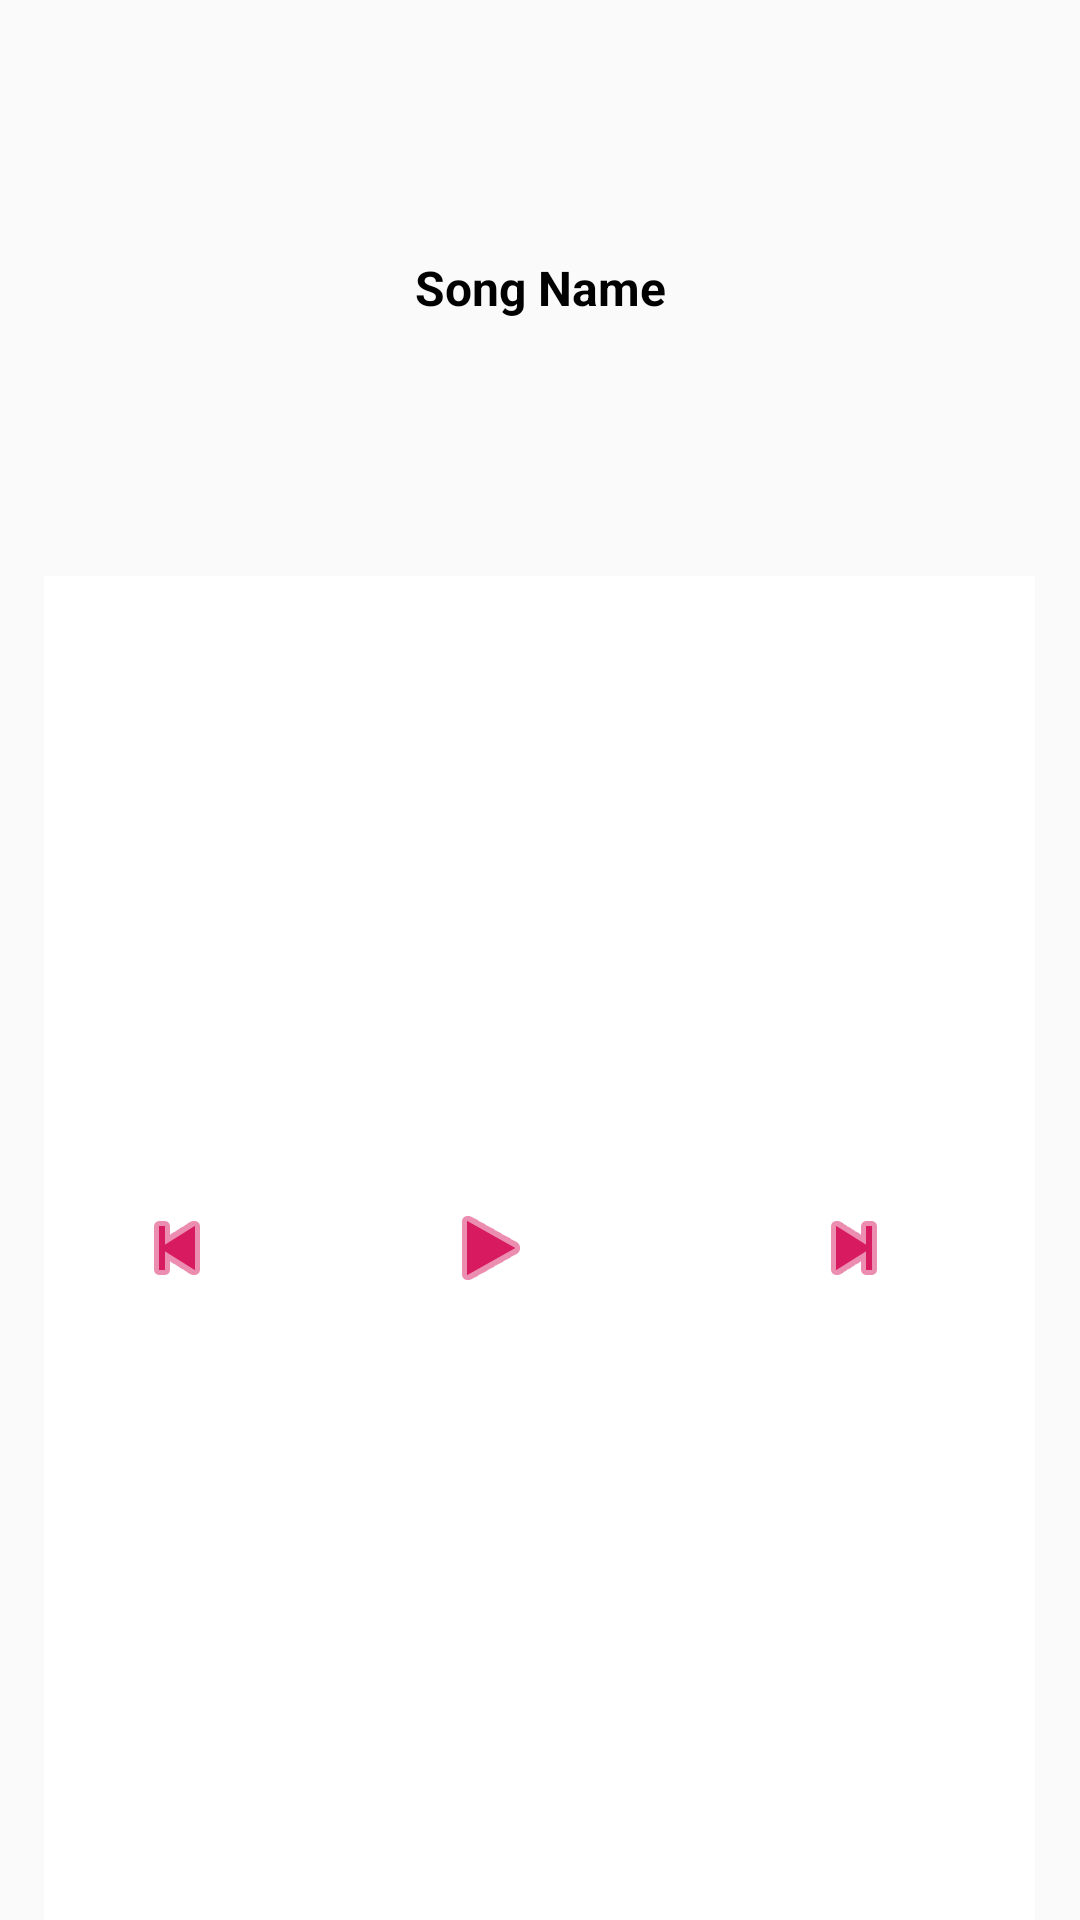

Icon bounding boxes for this 1080w x 1920h phone screenshot, format (x1, y1, x2, y2):
next: (831, 1221, 877, 1275)
play: (462, 1216, 520, 1280)
previous: (154, 1221, 200, 1275)
